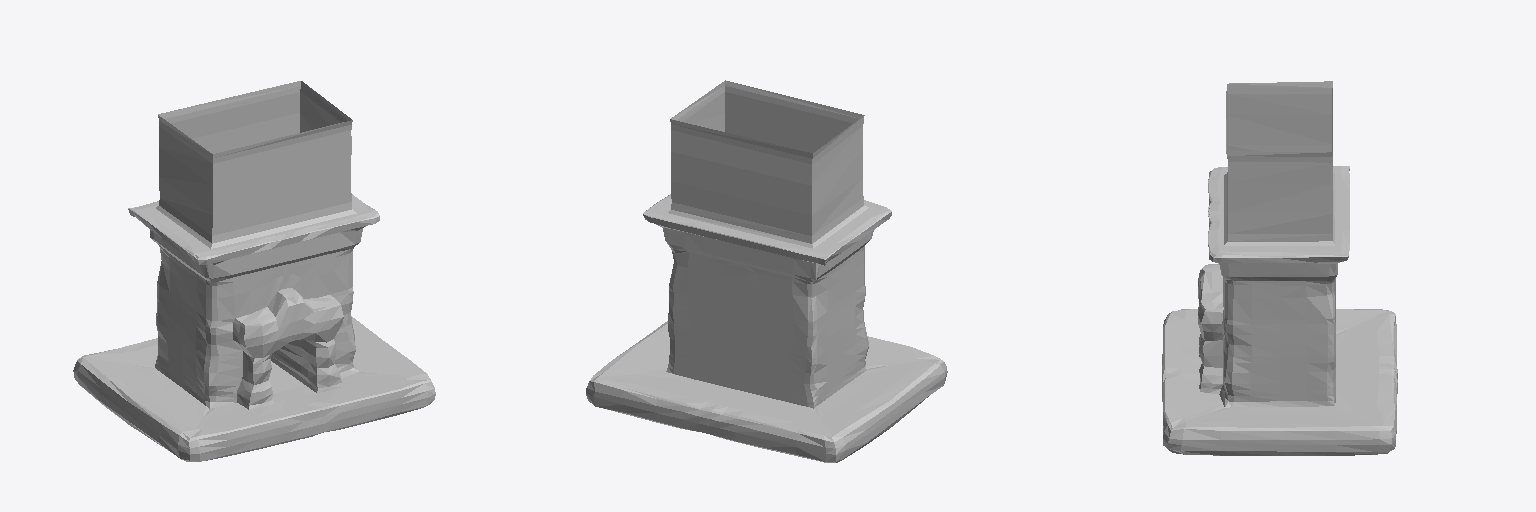
File: Fireplace002.obj
The picture shows the model from 3 angles: view 1: azimuth 30°, elevation 25°; view 2: azimuth 150°, elevation 25°; view 3: azimuth 270°, elevation 25°; orthographic projection.
Visible parts, largest first — view 1: FirePlace; view 2: FirePlace; view 3: FirePlace.
Boxes of the visible parts, x1=… form: FirePlace: x1=73, y1=81, x2=435, y2=461; FirePlace: x1=586, y1=80, x2=947, y2=462; FirePlace: x1=1162, y1=81, x2=1397, y2=455.
Bounding box in the file's own units: 243 × 253 × 193.